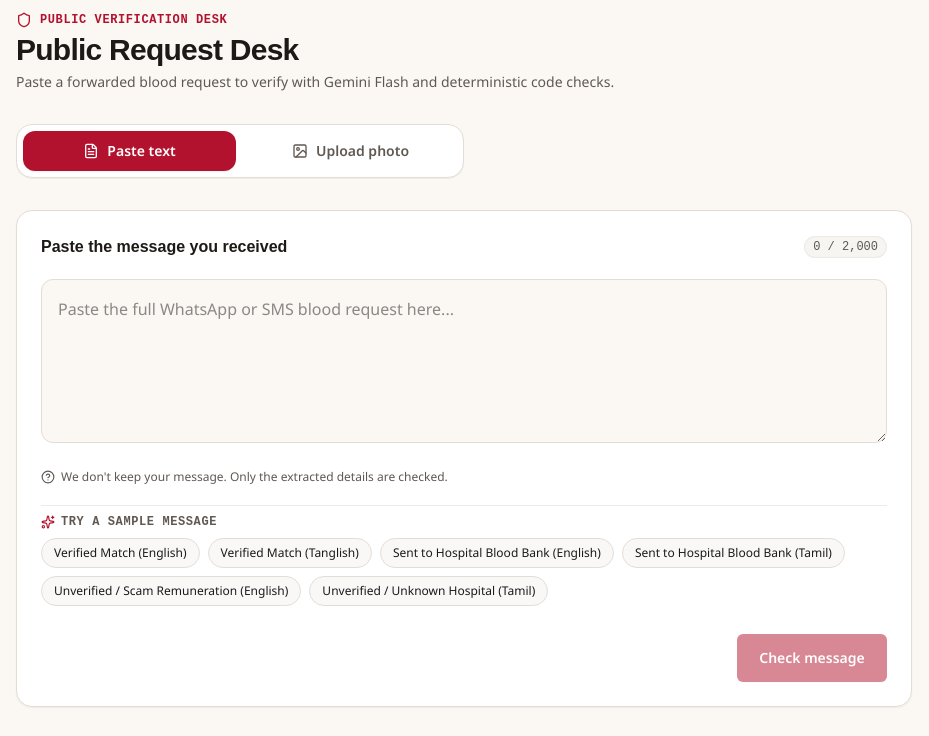
Test: DeskPage (/desk) › switches between Paste text and Upload photo tabs
The width and height of the screenshot is (929, 736).
Expected: the text box labelled "Paste the message you received" is shown, [41,279,887,443]
// Switch to photo tab
What coordinates should you click on to do the following:
click the tab "Upload photo"
I would click on:
 (350, 151)
Its box is [244,131,457,171].
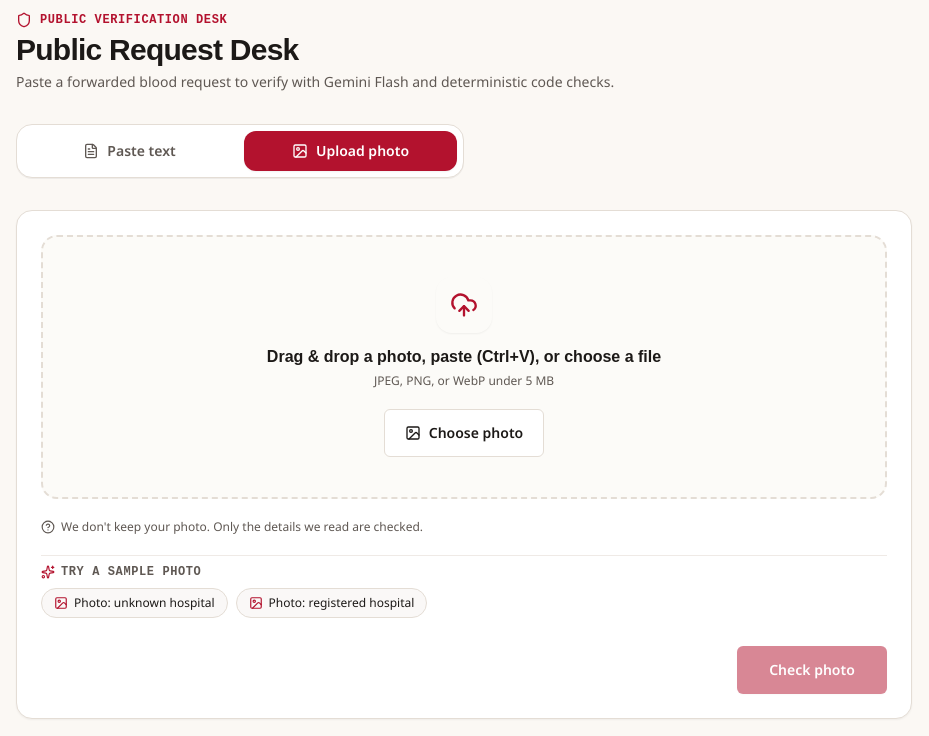
Result: the text "Drag & drop a photo, paste (Ctrl+V), or choose a file" is shown at [267,345,661,369]
Result: the text "We don't keep your photo. Only the details we read are checked." is shown at [61,519,423,535]
